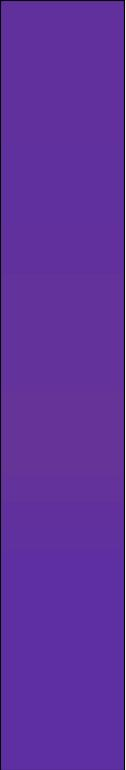safe: (9, 12, 110, 755)
